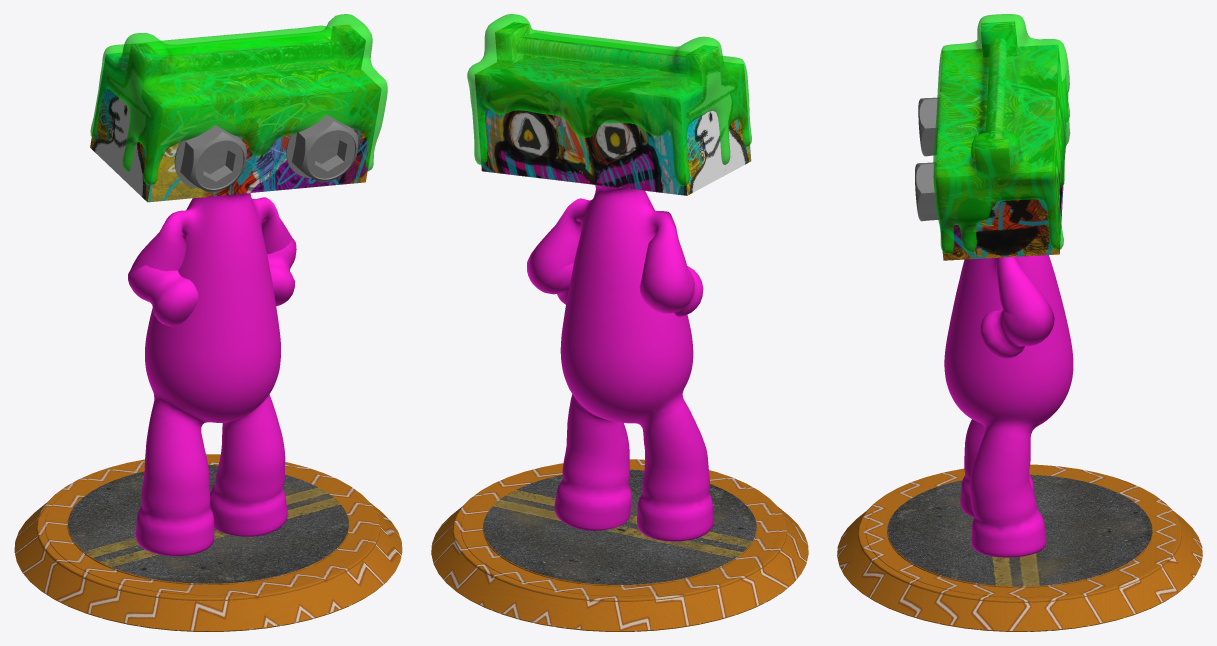
The model's file is 373_sanitized.glb.
The picture shows the model from 3 angles, left to right: view 1: azimuth 30°, elevation 25°; view 2: azimuth 150°, elevation 25°; view 3: azimuth 270°, elevation 25°; orthographic projection. The views are drawn at different scales.
Parts seen in each view (by area): view 1: BBody; view 2: BBody; view 3: BBody.
Boxes of the visible parts, bbox=[...] form: BBody: bbox=[14, 14, 402, 631]; BBody: bbox=[431, 14, 808, 631]; BBody: bbox=[837, 14, 1202, 631].
Size of the model in its own units: 1.45 by 2.21 by 1.45.
6 materials, 3 textured.
